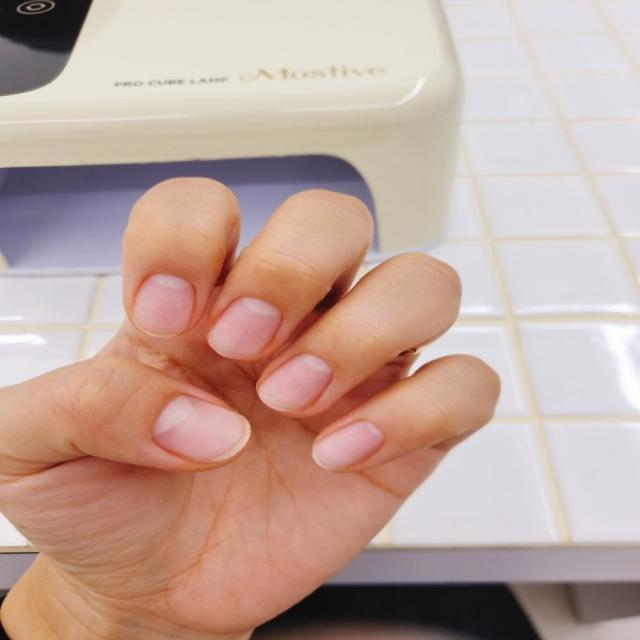Nail: (152, 395, 250, 462), (208, 298, 282, 359), (258, 354, 333, 412), (134, 274, 195, 336), (312, 421, 385, 470)
